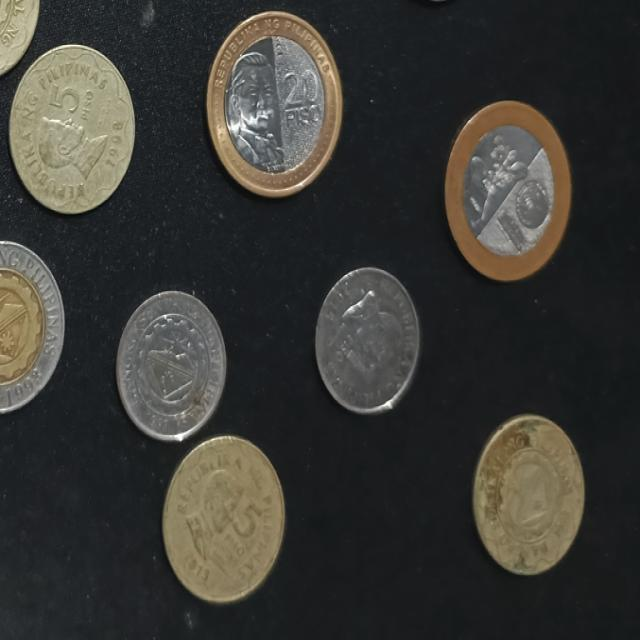10_peso: (0, 241, 64, 412)
1_peso: (117, 292, 225, 440), (316, 268, 419, 412)
20_peso: (207, 11, 341, 196), (445, 101, 570, 280)
5_peso: (9, 45, 134, 212), (163, 436, 284, 601), (474, 415, 582, 574)
